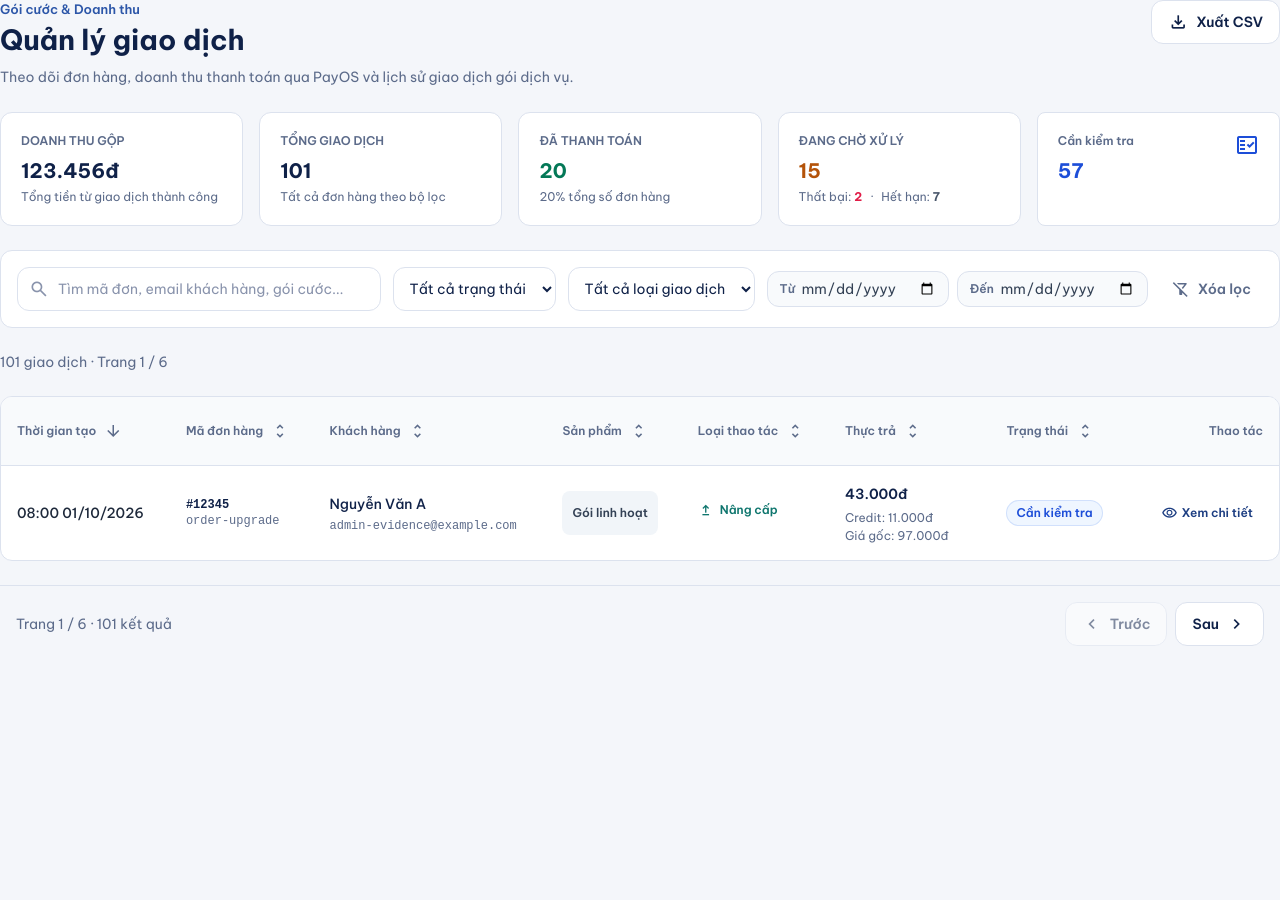
FE-UP5 admin financial evidence A01-A50 › A03 Upgrade renders its explicit label in list and detail
The width and height of the screenshot is (1280, 900).
Expected: the text "Nâng cấp" is shown, [698,502,778,518]
Click the button "Xem chi tiết": (1207, 513) [1152,493,1263,533]
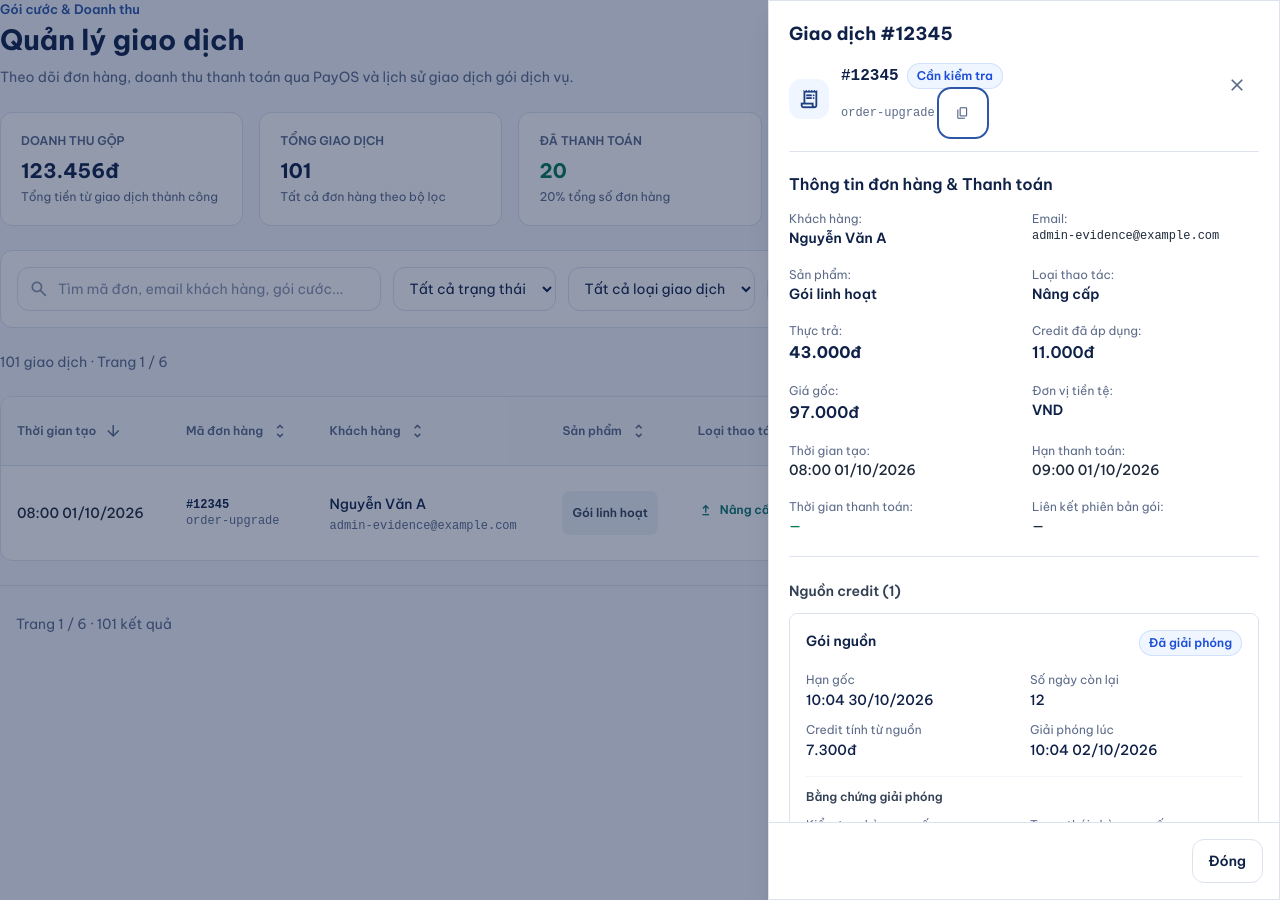
Expected: the text "Nâng cấp" is shown, [1032,285,1100,303]
